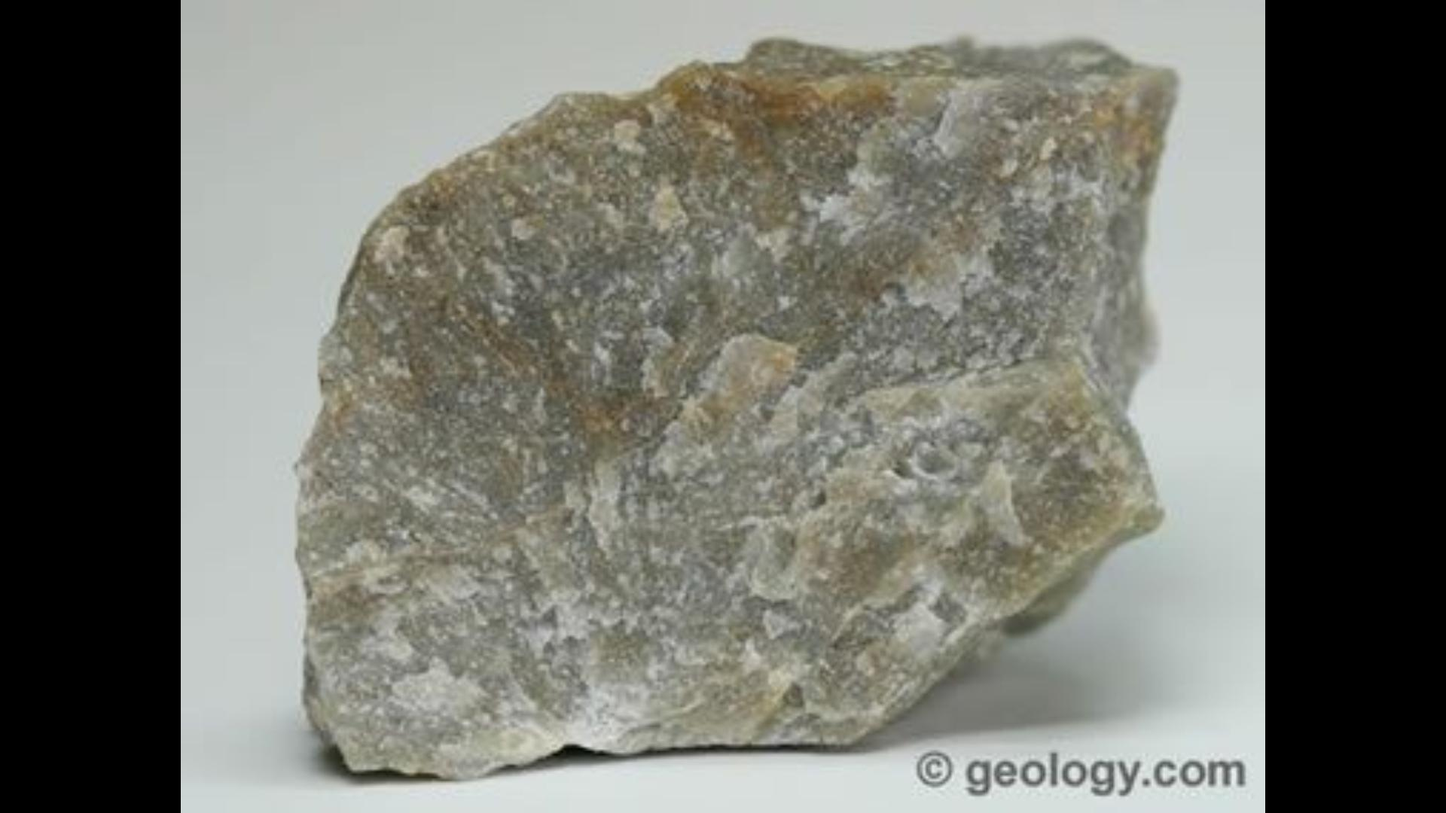rock: (298, 40, 1171, 773)
